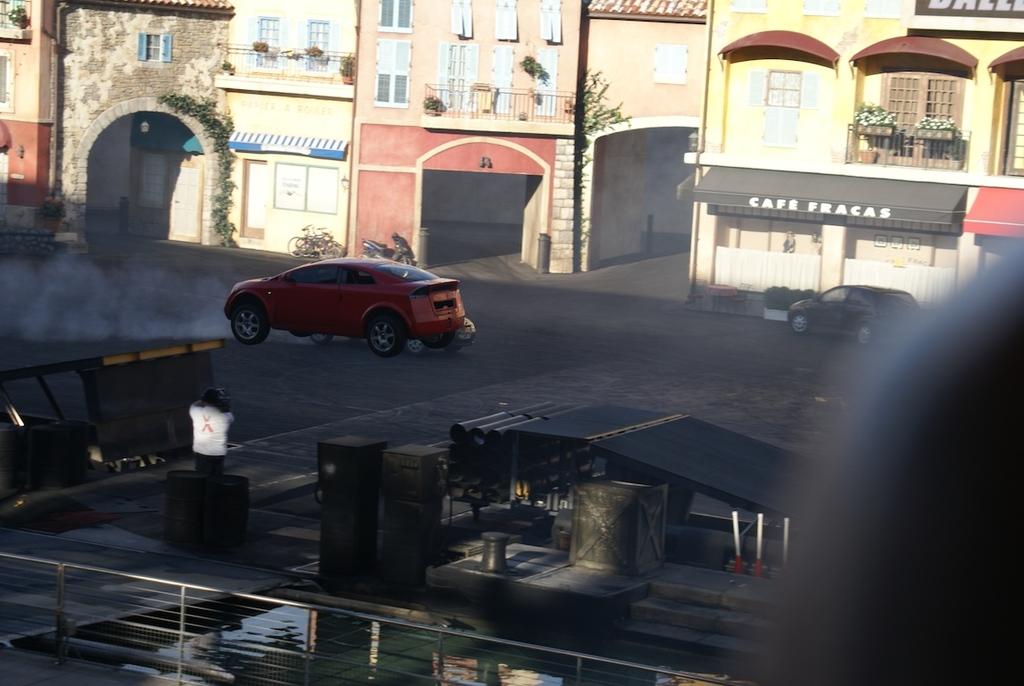Car: (222, 257, 466, 356), (786, 285, 921, 344), (310, 316, 474, 358)
